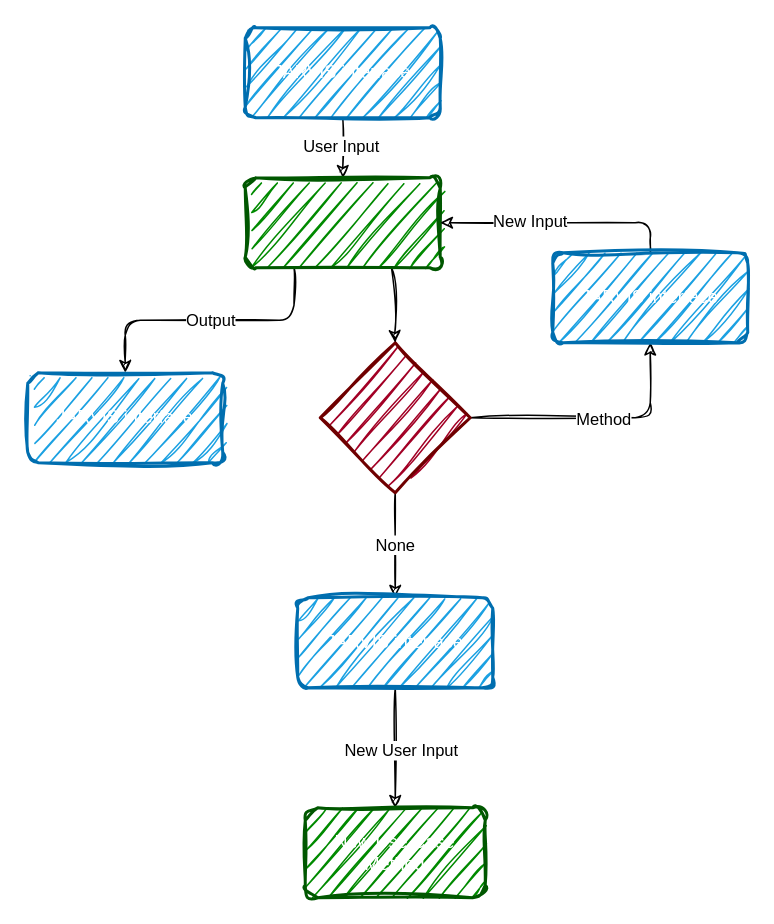
Image size: 774x924. Some labels were removed from this diagram. Here are the shapes that lost their labels. From the top down, the box of each, then its label:
(243, 176, 441, 268): Use Case Method
(318, 340, 471, 494): return Method or None
